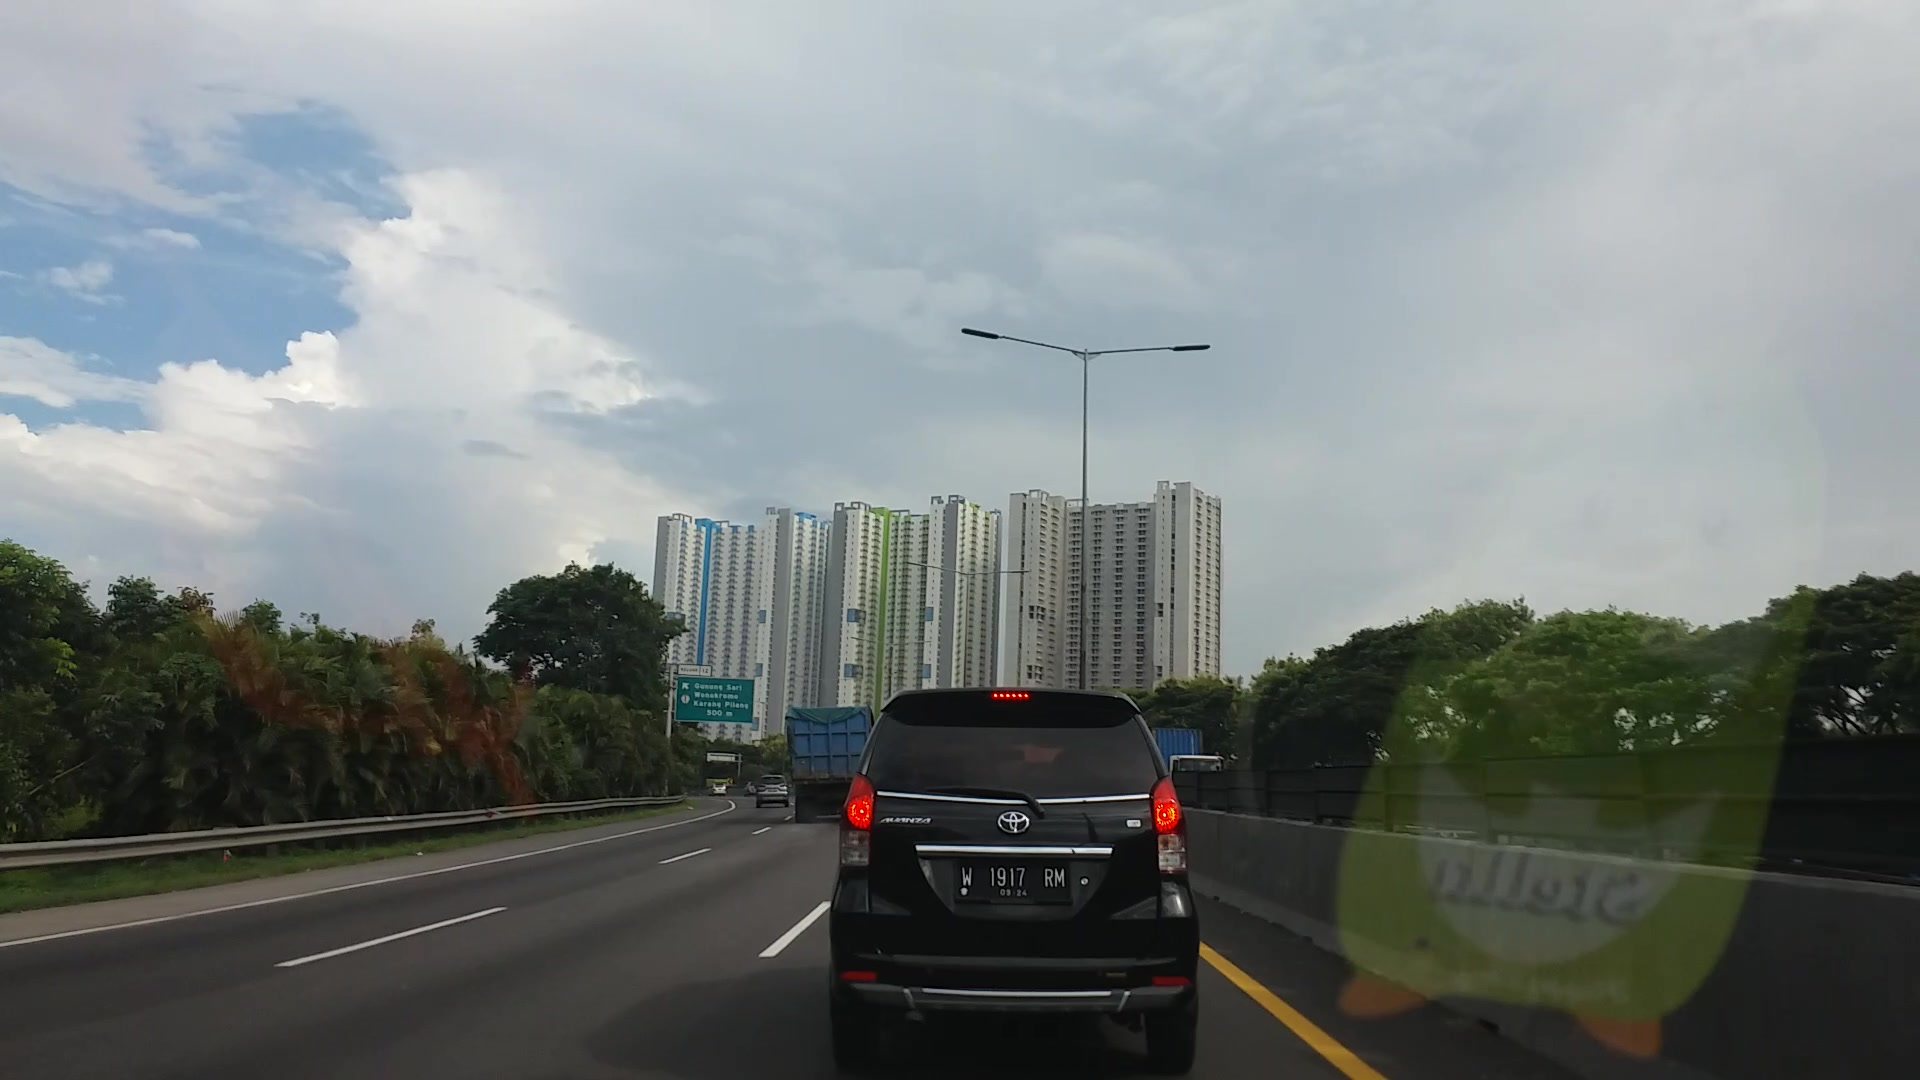plate_positive: (955, 858, 1069, 899)
